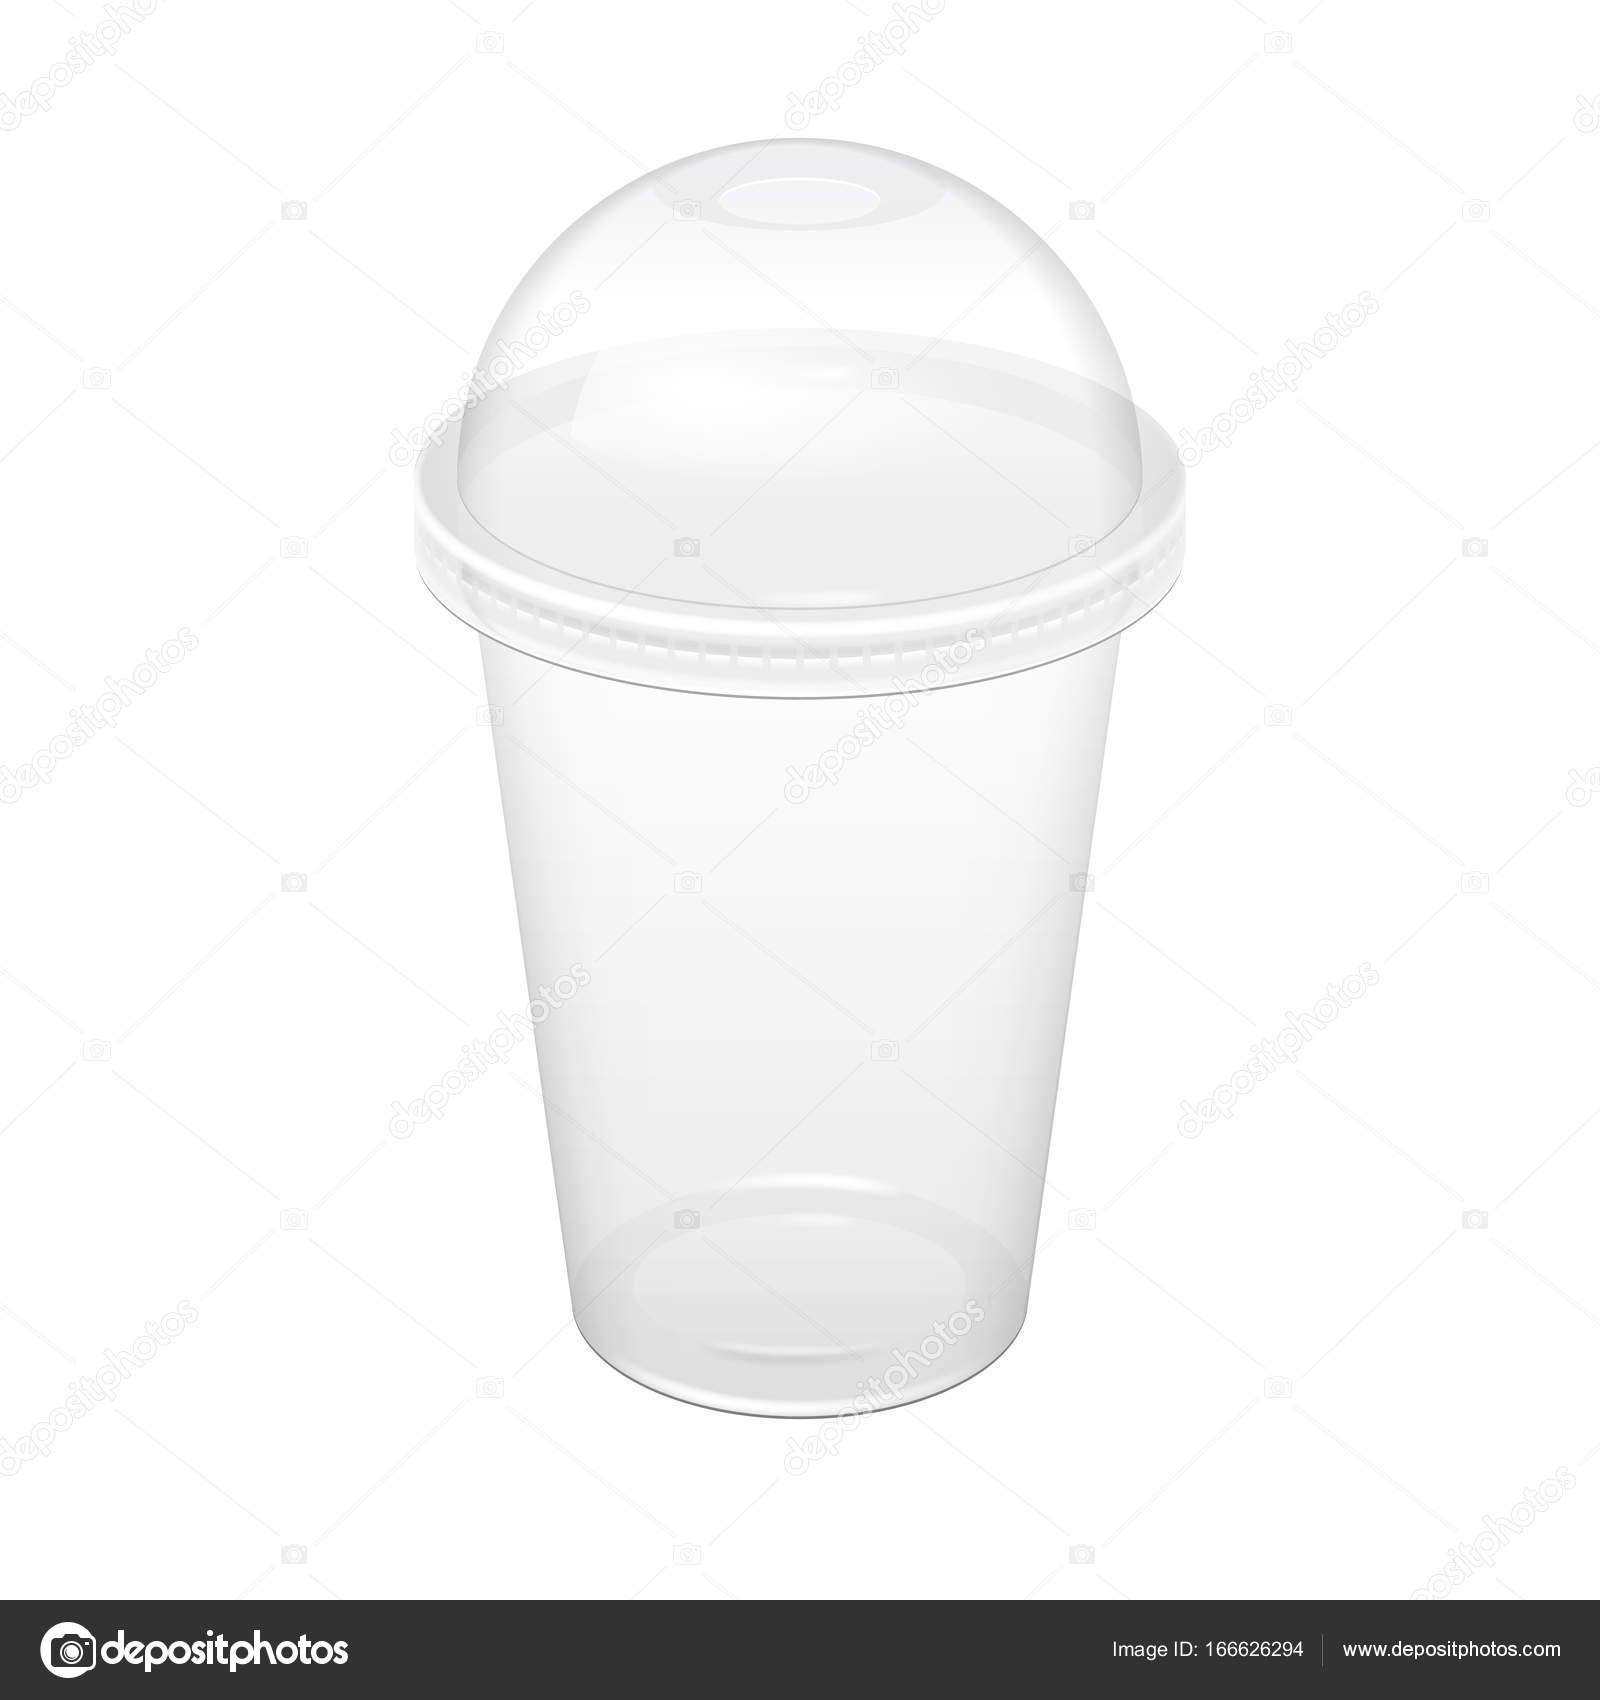plastic_glass: (392, 119, 1220, 1467)
